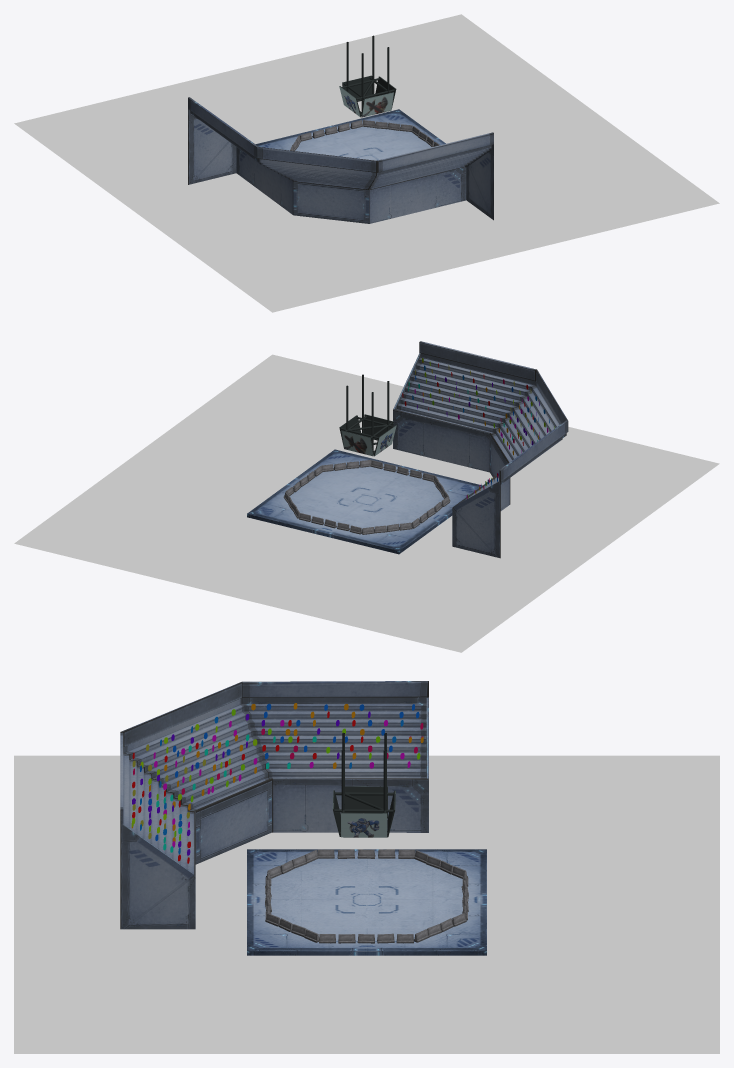
The model's file is Arena_AF.fbx.
3 renders of one model, top to bottom at view 1: azimuth 30°, elevation 25°; view 2: azimuth 150°, elevation 25°; view 3: azimuth 270°, elevation 25°, orthographic. The views are drawn at different scales.
Parts seen in each view (by area): view 1: Vloer_Muur, tribune, Plane, Cylinder.002, beton_block.002; view 2: Vloer_Muur, tribune, Plane, beton_block.002, Cylinder.002, Plane.002; view 3: Vloer_Muur, tribune, Plane, Plane.002, beton_block.002, Cylinder.002.
Boxes of the visible parts, x1,y1,x2,y2 form: Vloer_Muur: [14, 14, 719, 312]; tribune: [188, 97, 493, 223]; Plane: [256, 109, 445, 160]; Cylinder.002: [339, 35, 396, 117]; beton_block.002: [290, 120, 440, 150]; Vloer_Muur: [14, 354, 719, 652]; tribune: [393, 341, 568, 558]; Plane: [247, 449, 482, 554]; beton_block.002: [283, 459, 450, 534]; Cylinder.002: [339, 374, 396, 456]; Plane.002: [402, 358, 554, 498]; Vloer_Muur: [14, 755, 719, 1053]; tribune: [120, 681, 428, 929]; Plane: [247, 849, 486, 955]; Plane.002: [131, 703, 423, 863]; beton_block.002: [265, 849, 468, 943]; Cylinder.002: [332, 732, 395, 837].
Size of the model in its own units: 8260 by 2156 by 8260.
